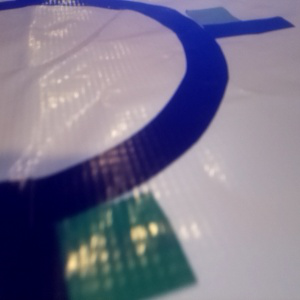bottom_right: (1, 181, 197, 300)
top_right: (176, 5, 242, 35)
